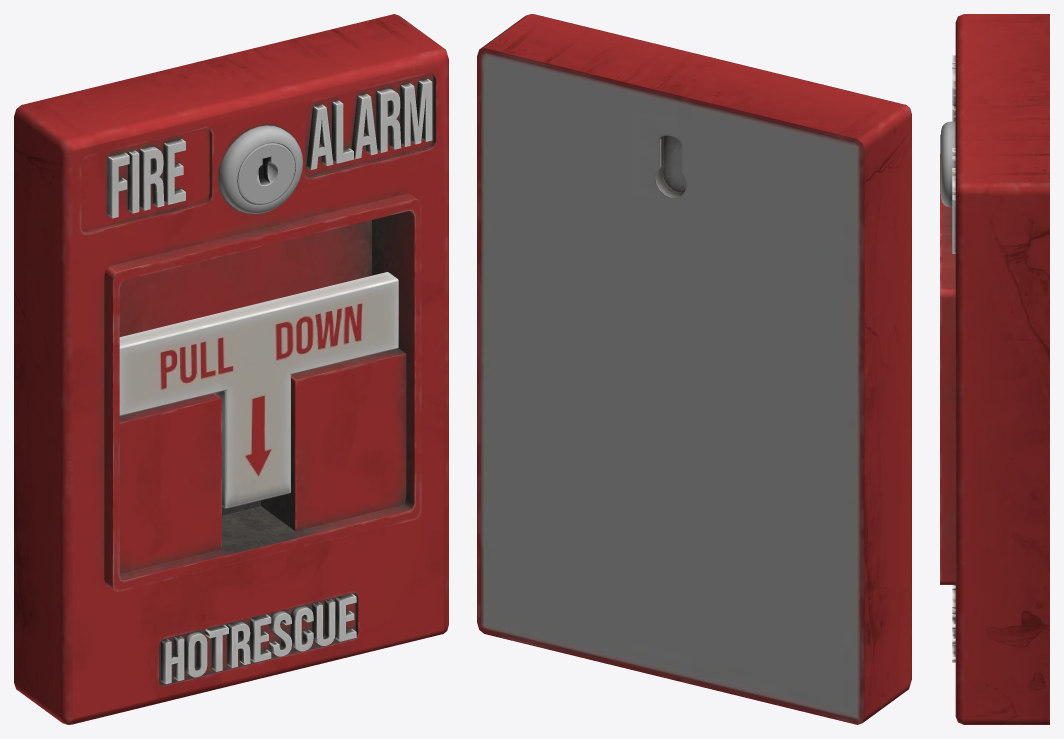
Rendered from fire_alarm.glb.
3 renders of one model, left to right at view 1: azimuth 30°, elevation 25°; view 2: azimuth 150°, elevation 25°; view 3: azimuth 270°, elevation 25°, orthographic. The views are drawn at different scales.
Parts seen in each view (by area): view 1: fire_alarm; view 2: fire_alarm; view 3: fire_alarm.
Boxes of the visible parts, box(x1,y1,x2,y2) form: fire_alarm: box(14, 14, 448, 724); fire_alarm: box(477, 14, 911, 724); fire_alarm: box(940, 14, 1049, 724).
Bounding box in the file's own units: 0.0995 × 0.1436 × 0.0264.
1 material, 1 textured.
